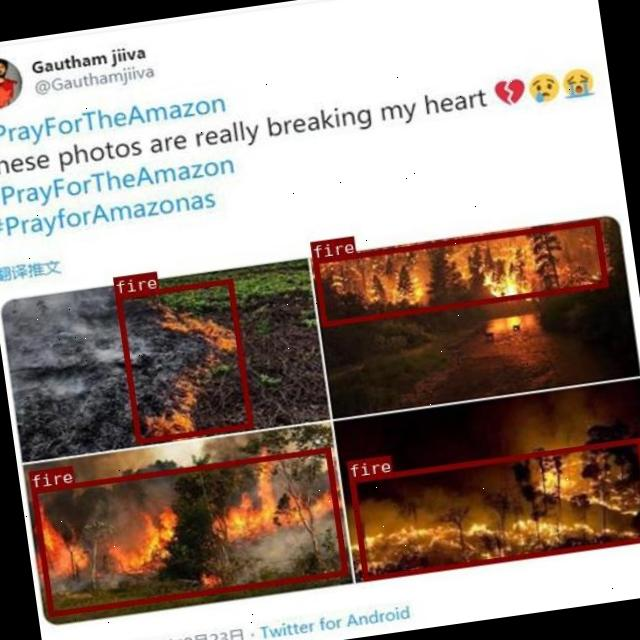fire: (30, 447, 348, 616), (349, 436, 640, 580), (312, 218, 607, 326), (115, 278, 252, 444)
